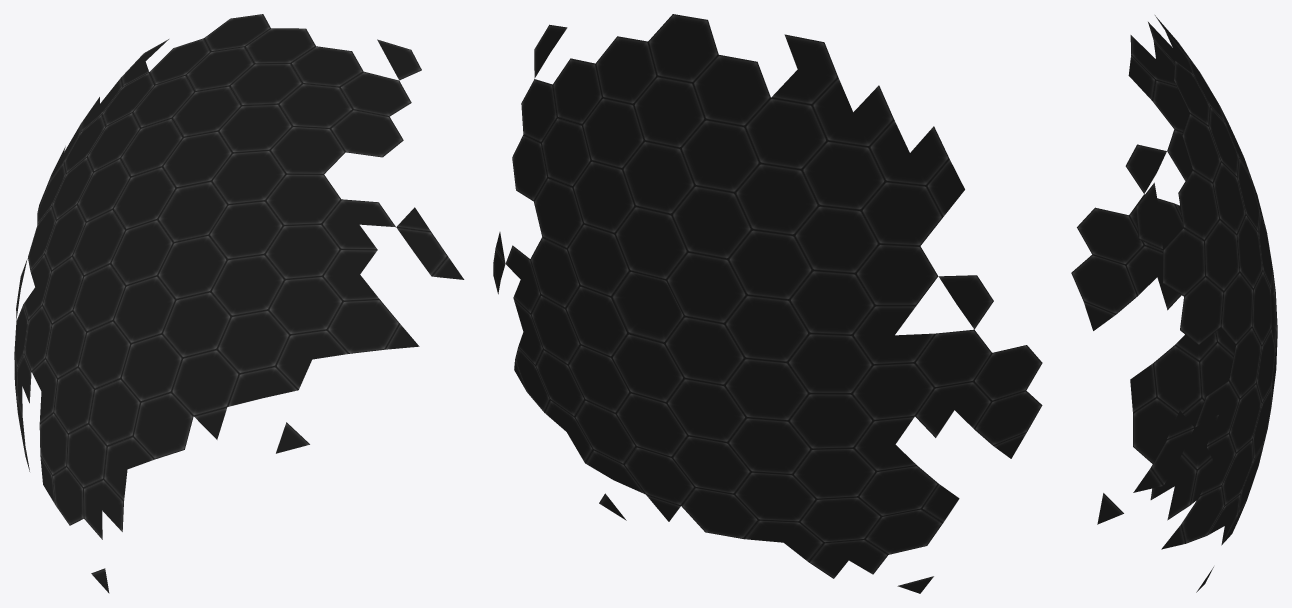
Rendered from test_grid_section.fbx.
3 views of the same model, side by side, from view 1: azimuth 30°, elevation 25°; view 2: azimuth 150°, elevation 25°; view 3: azimuth 270°, elevation 25° (orthographic). The views are drawn at different scales.
Parts seen in each view (by area): view 1: m_HEX_cage_section_smaller1; view 2: m_HEX_cage_section_smaller1; view 3: m_HEX_cage_section_smaller1.
Part boxes in pixels (x1=…): m_HEX_cage_section_smaller1: x1=14, y1=14, x2=464, y2=593; m_HEX_cage_section_smaller1: x1=493, y1=14, x2=1042, y2=593; m_HEX_cage_section_smaller1: x1=1071, y1=15, x2=1277, y2=592.
Size of the model in its own units: 434 by 447 by 153.
